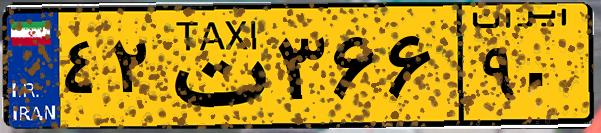0: (525, 38, 570, 115)
2: (110, 28, 158, 98)
3: (270, 28, 330, 110)
4: (57, 26, 110, 100)
6: (385, 28, 445, 110), (330, 28, 385, 110)
9: (475, 38, 525, 113)
ت: (158, 12, 270, 120)
